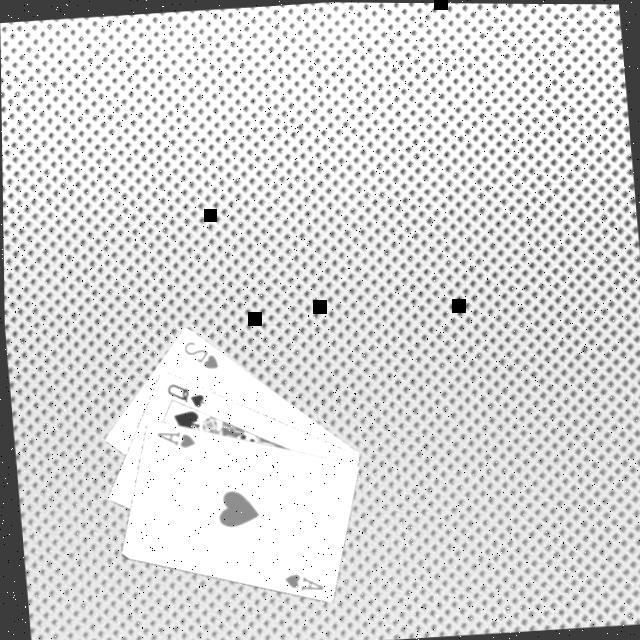2H: (180, 335, 222, 374)
AH: (280, 568, 326, 595), (153, 426, 200, 452)
QS: (163, 378, 208, 413)
